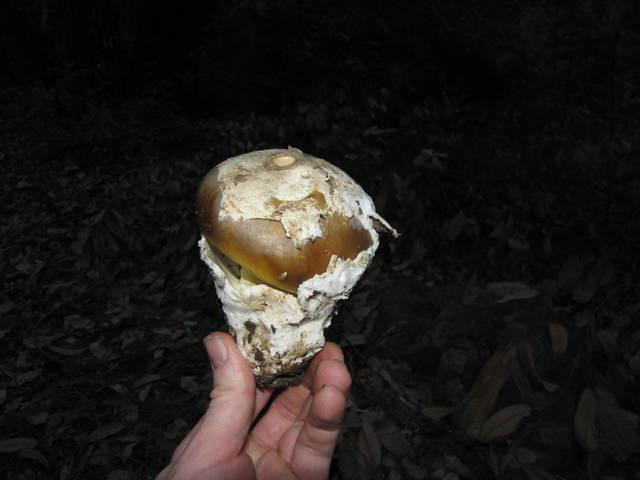Edible Mushroom: (194, 144, 400, 388)
